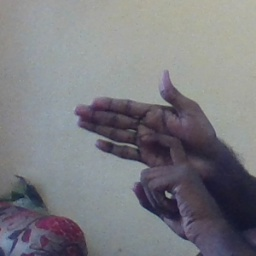R: (72, 66, 217, 208)
